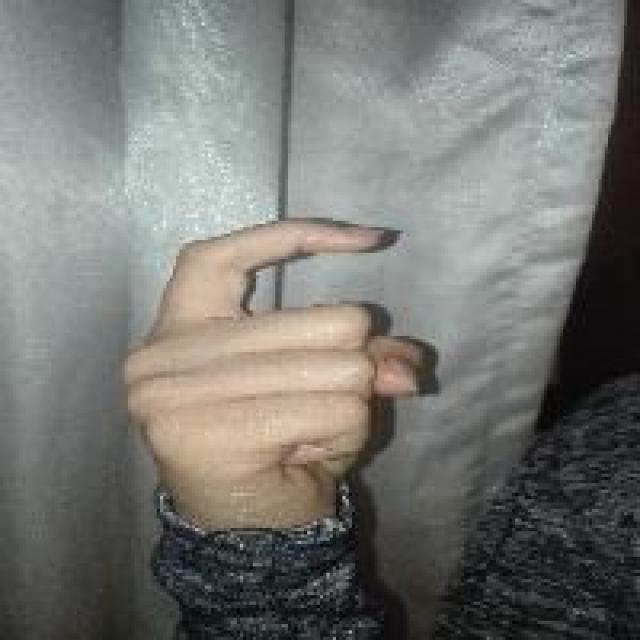X: (114, 214, 430, 496)
